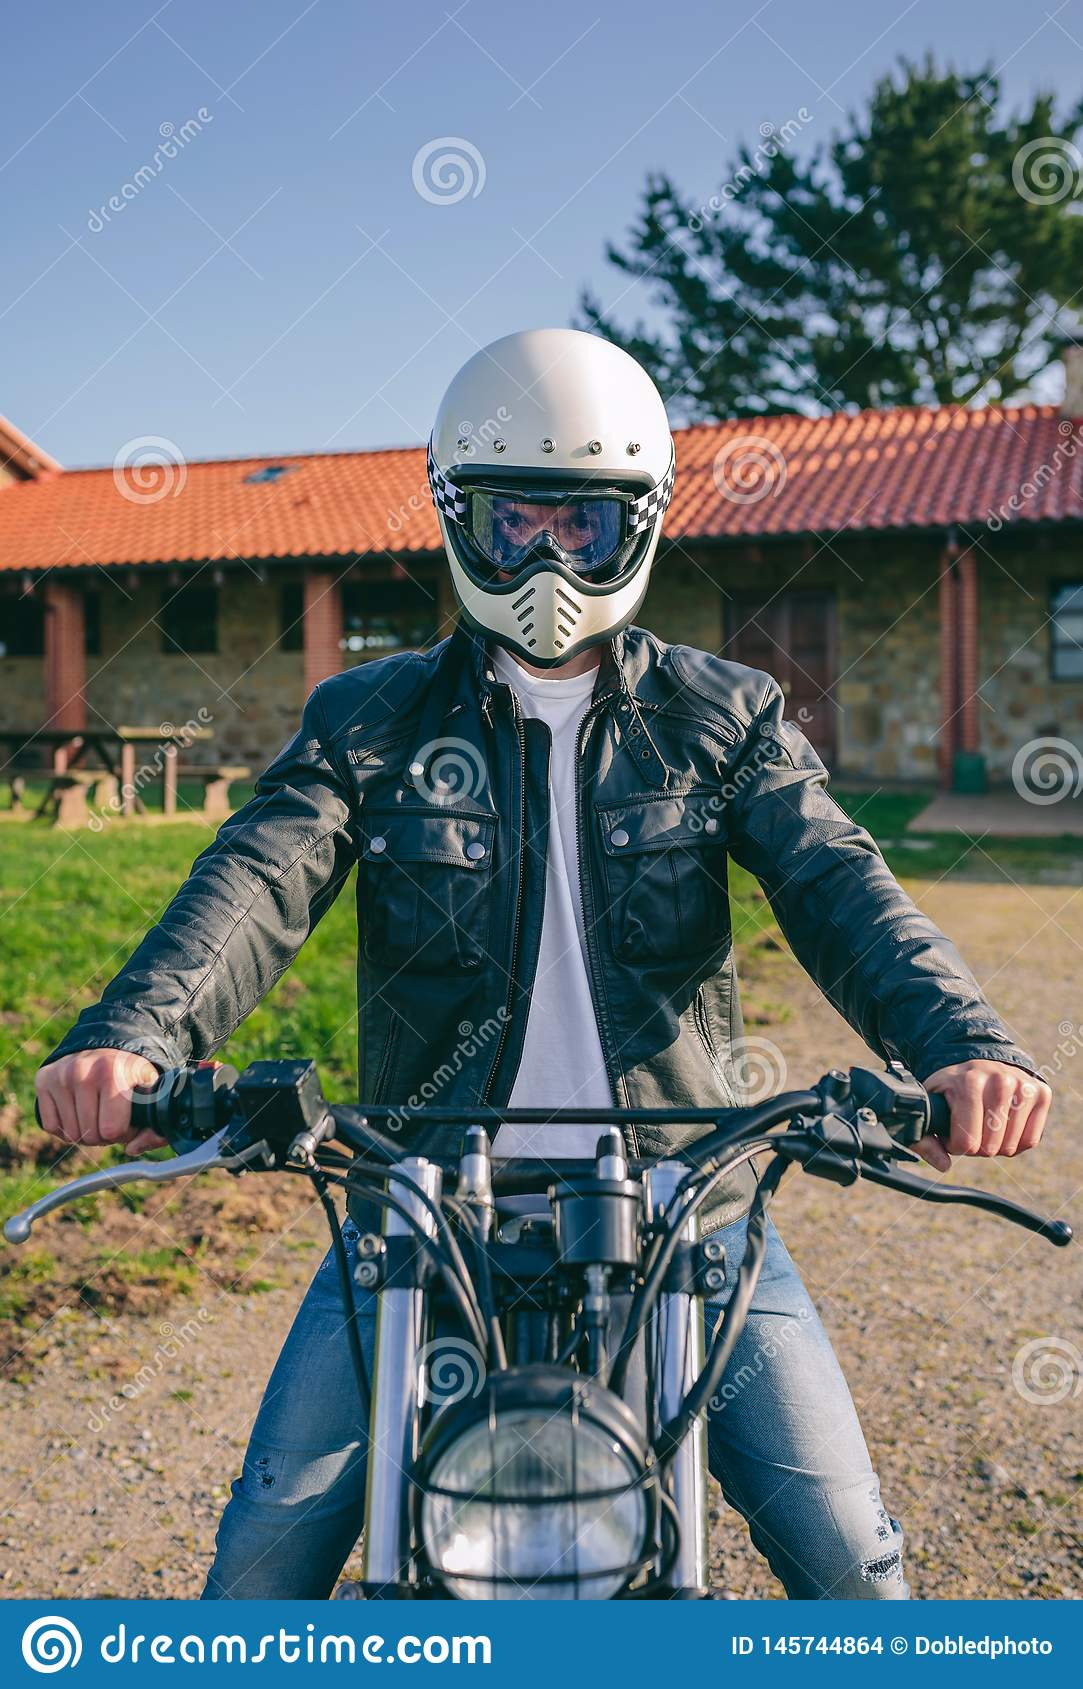helmet: (420, 320, 688, 652)
